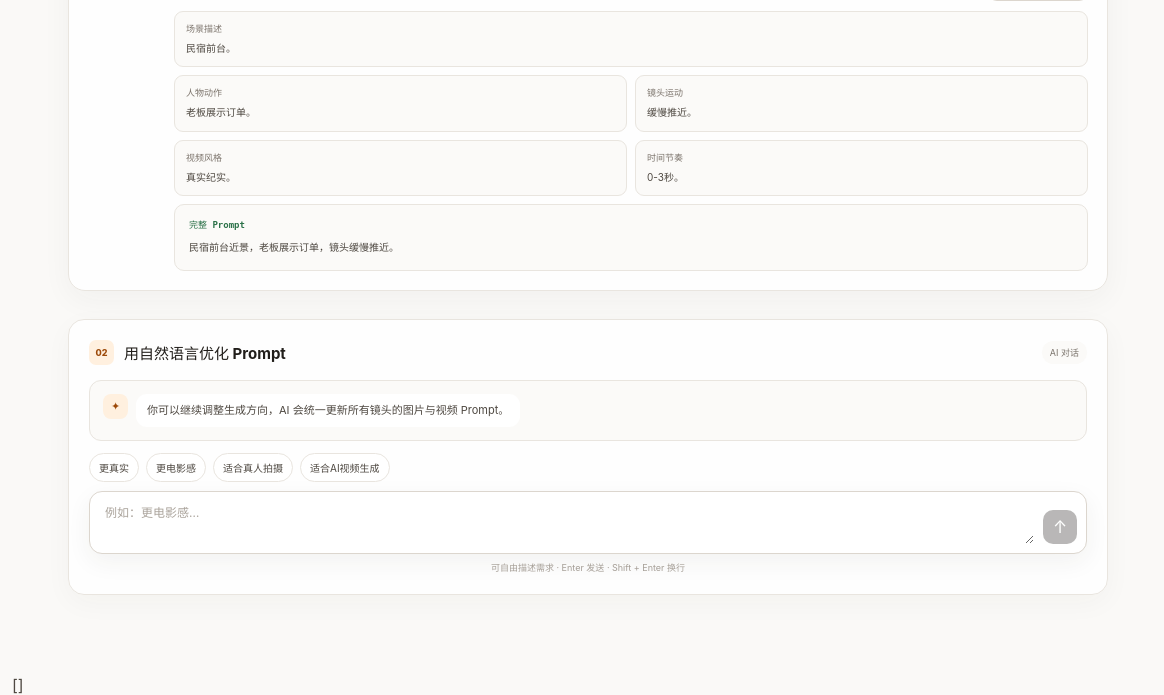
Test: 所有聊天修改链路 › Step7 发送完整分镜和当前 Prompt 并同步更新 Context 和页面
(page scrolled)
In the text box named "输入 Prompt 修改要求": [568, 522] box 103,501 -> 1034,544, type "更幽默"
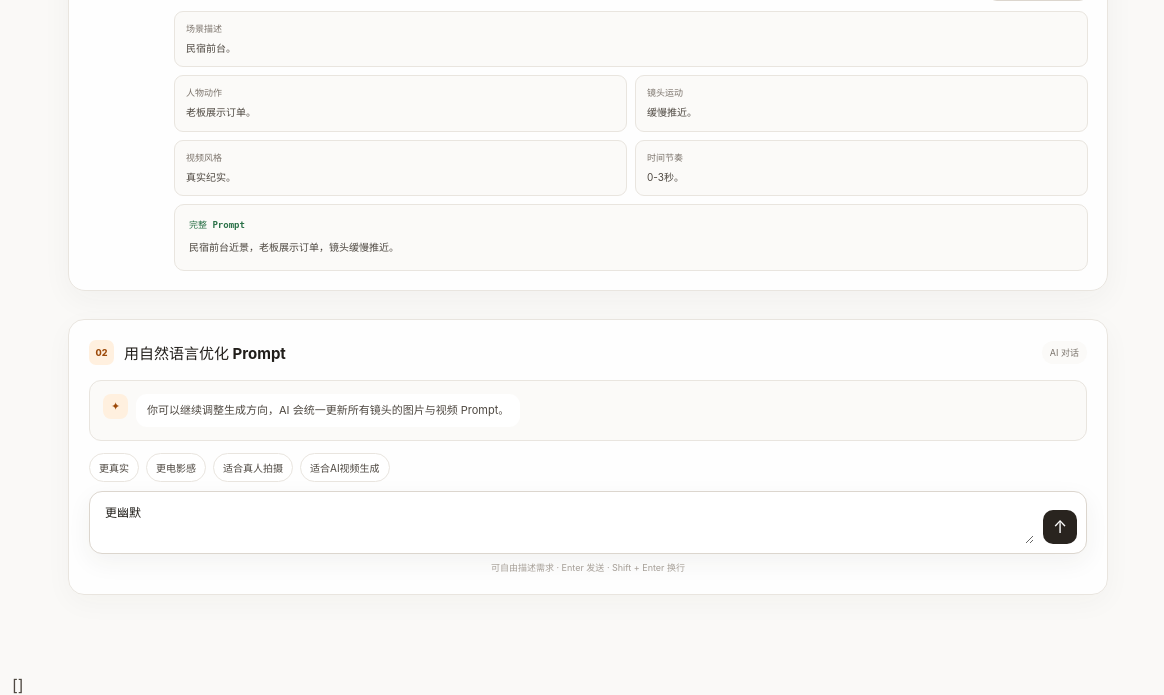
Click the button named "发送创意要求": [1060, 527] box 1043,510 -> 1077,544
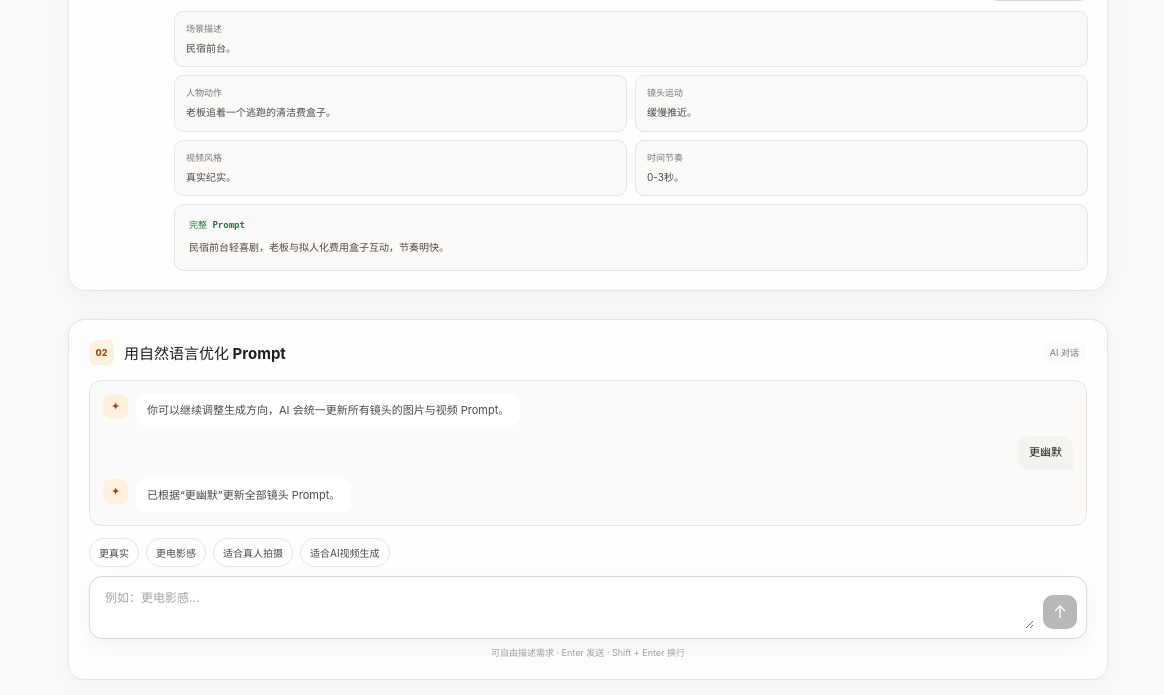
Expected: the text "已根据“更幽默”更新全部镜头 Prompt。" is shown, 136,479 -> 351,512
